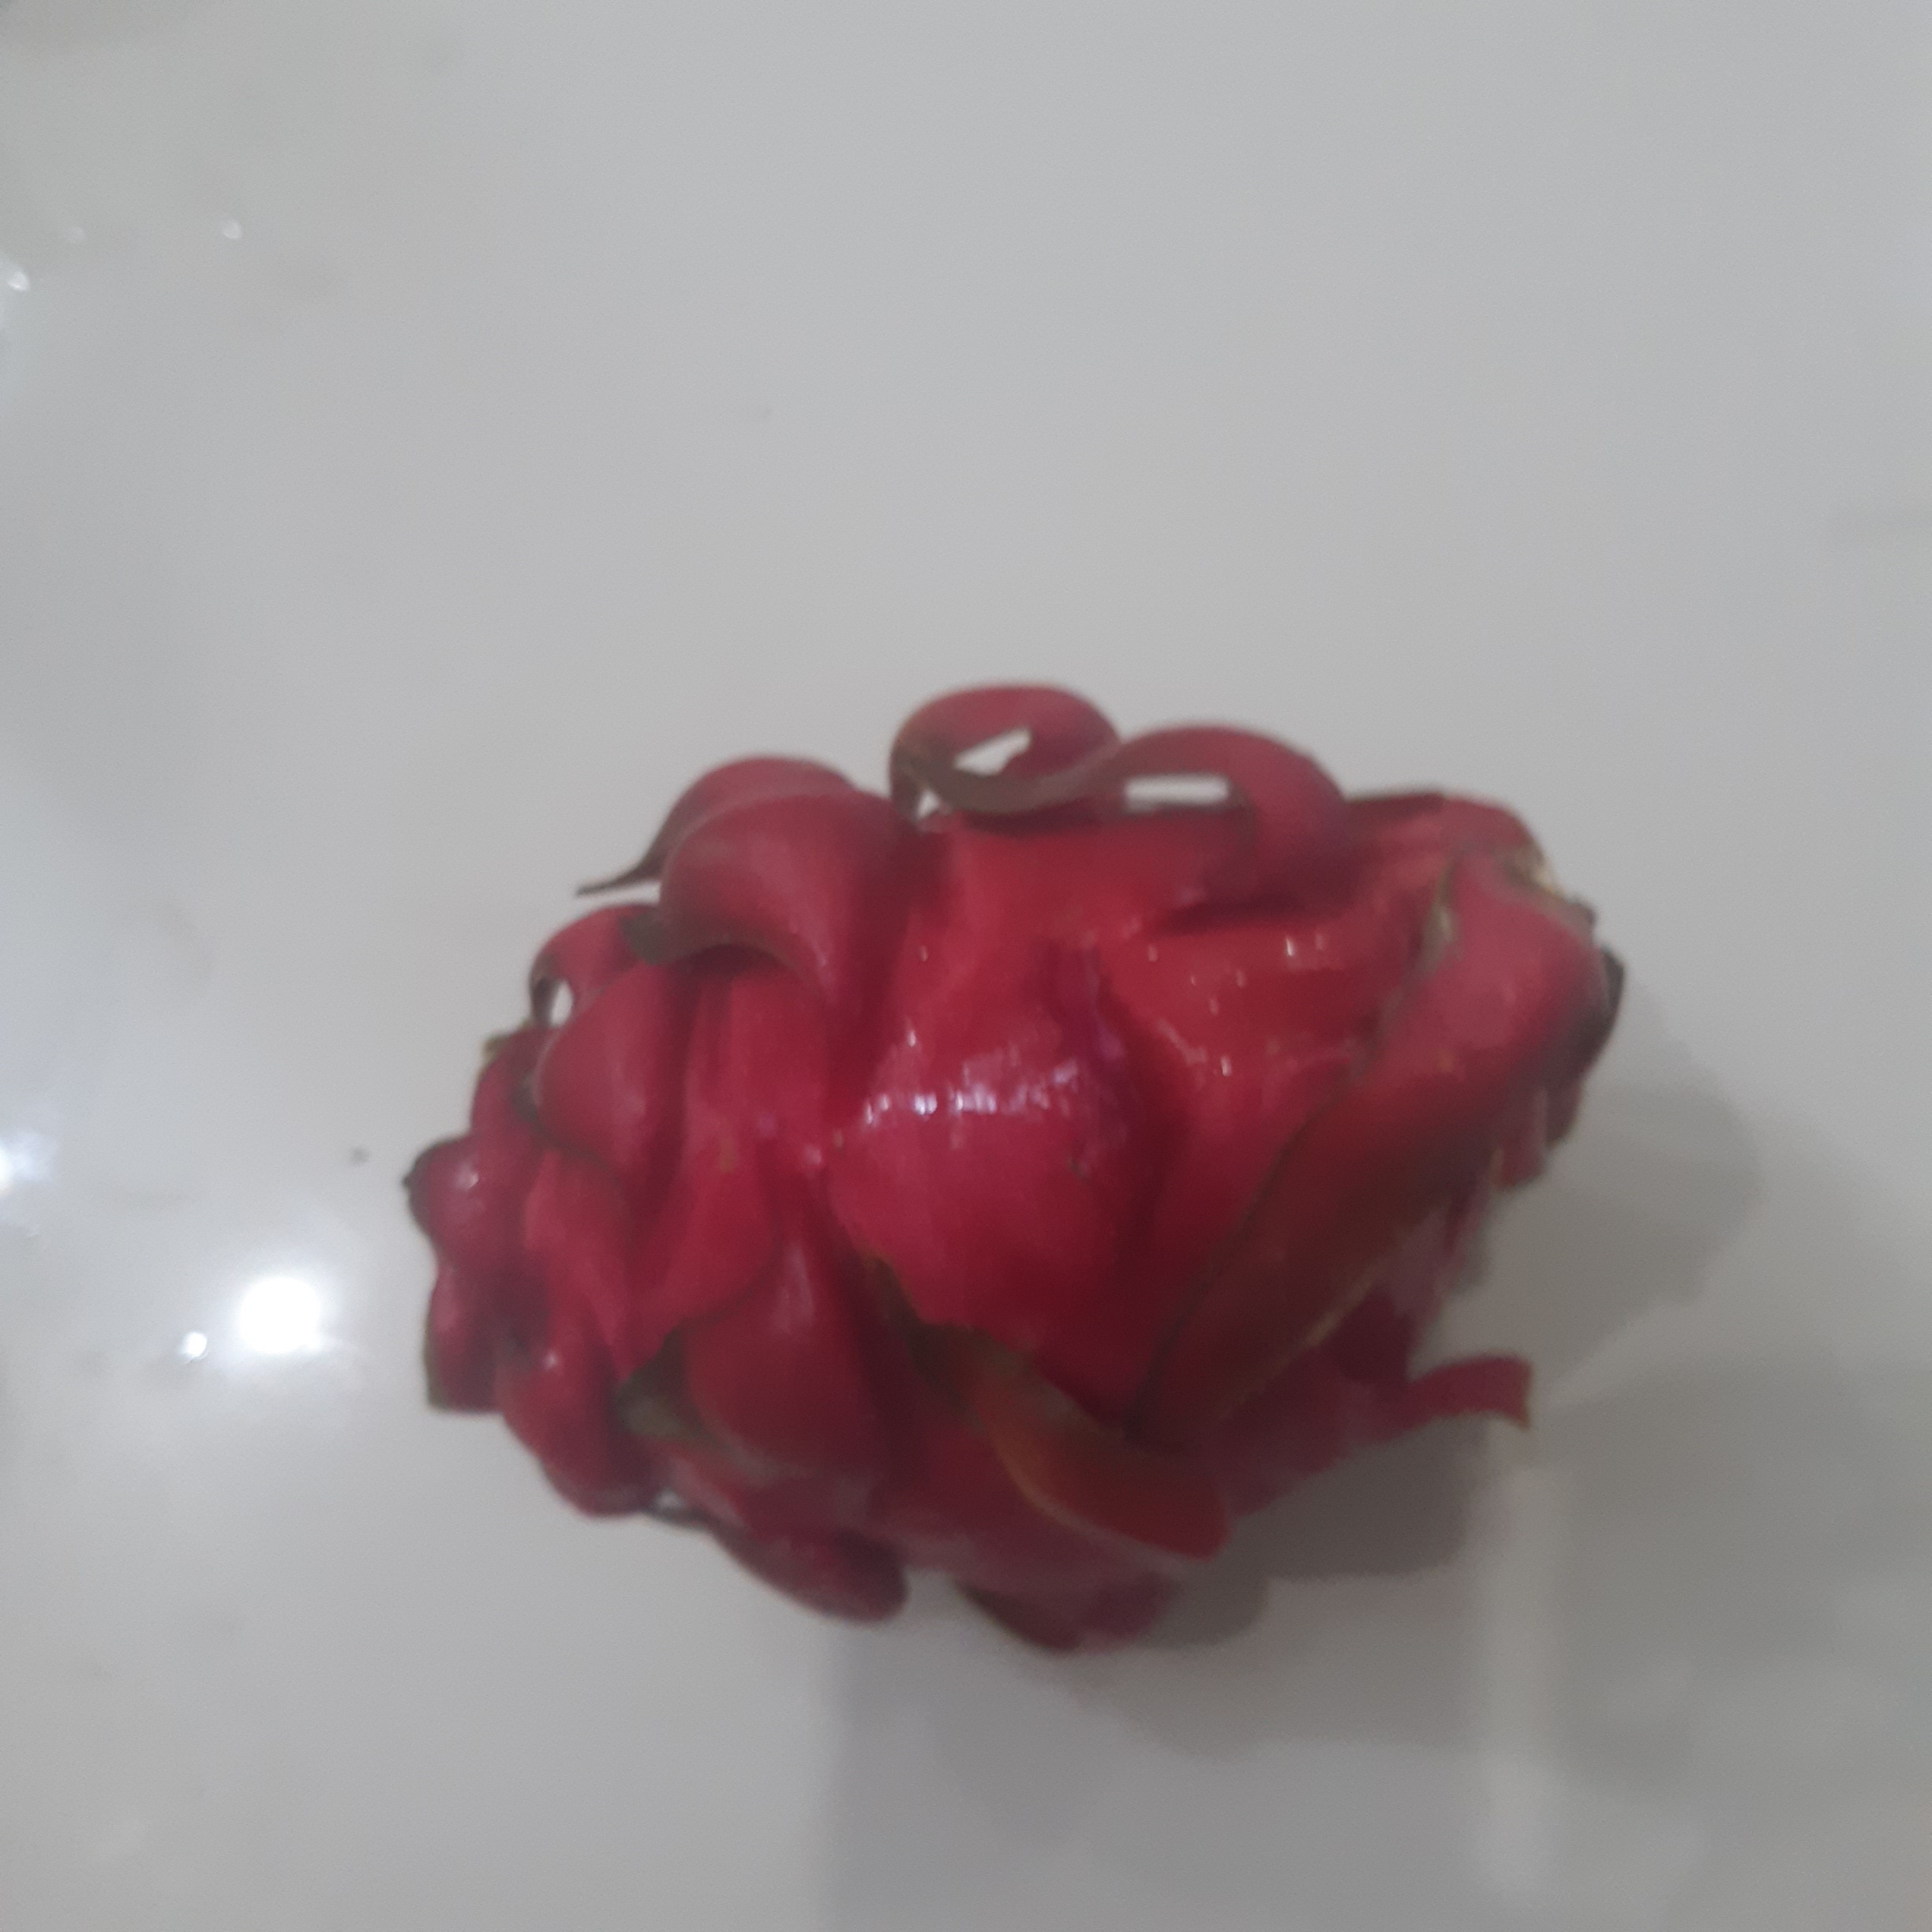Thanh long: (407, 781, 1631, 1591)
